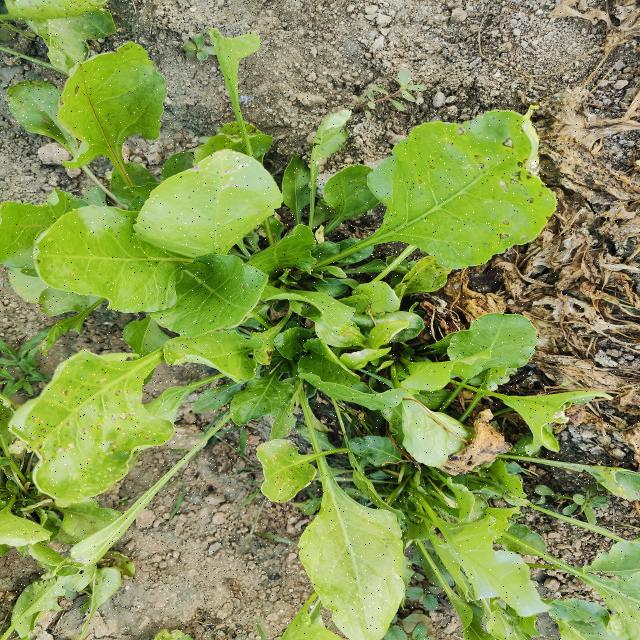half-leaf: (477, 369, 620, 447)
leaves: (325, 103, 570, 278), (5, 325, 183, 522), (293, 438, 410, 640), (125, 145, 295, 272), (47, 35, 178, 180), (35, 200, 183, 328), (137, 240, 283, 347), (441, 491, 561, 614), (427, 304, 550, 394), (233, 419, 345, 508), (10, 67, 101, 159), (276, 339, 393, 408)
